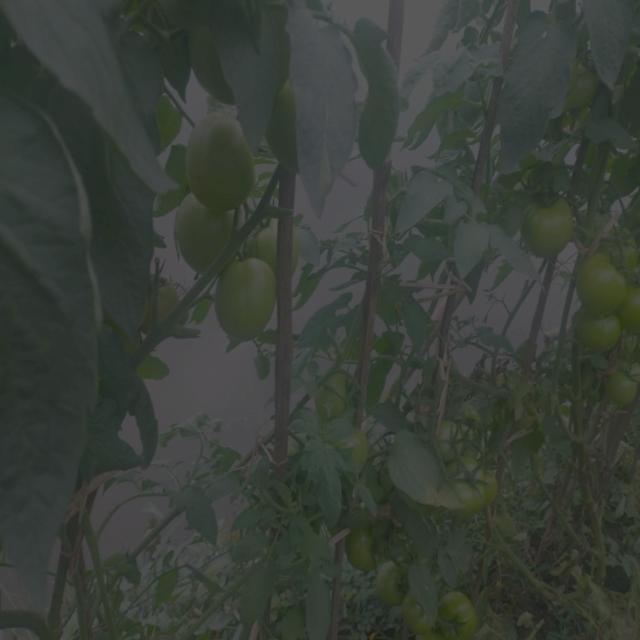tomato: (189, 115, 260, 203), (216, 259, 293, 339), (517, 183, 582, 262), (575, 256, 638, 319), (175, 202, 235, 263), (441, 584, 488, 637), (575, 309, 618, 360), (146, 268, 176, 340), (315, 367, 358, 412), (462, 471, 494, 520), (372, 568, 402, 608), (434, 423, 468, 456), (609, 358, 637, 396), (259, 222, 282, 258), (341, 527, 364, 561), (344, 437, 372, 464)
